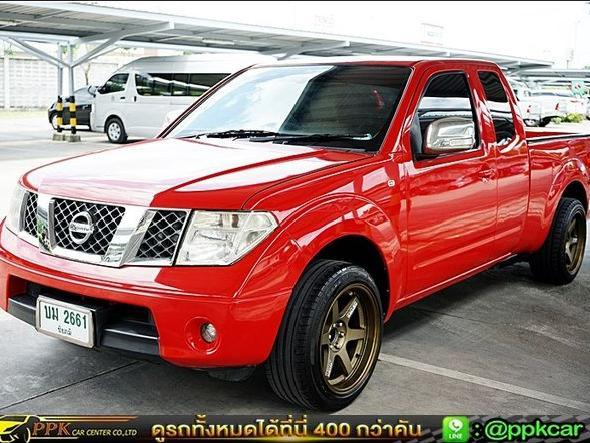pickup: (5, 55, 587, 408)
